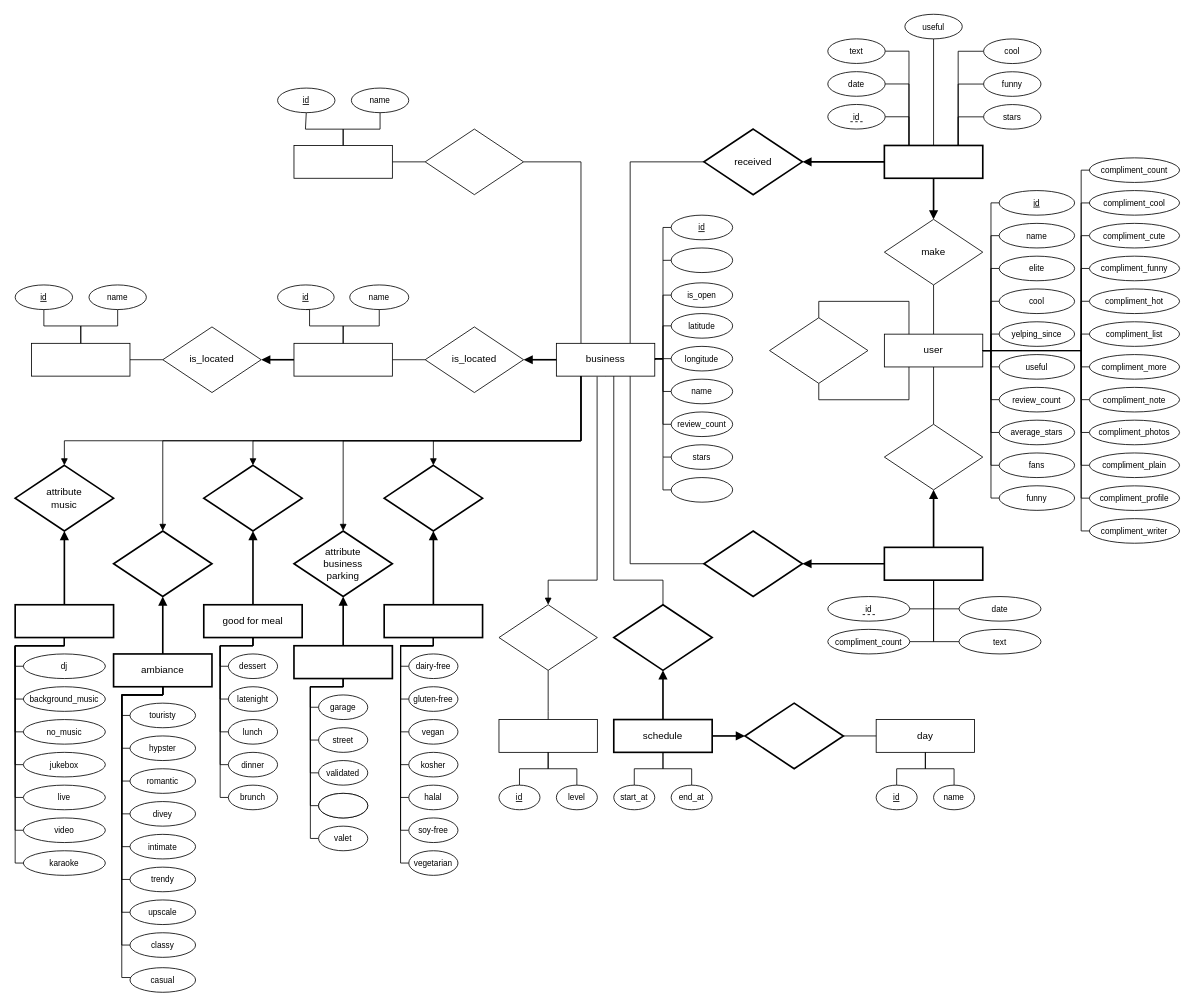
The diagram is 1194 pixels wide and 1007 high, and some of its shapes have lost their labels. The centre of each missing label's shape, as x and y in pixels:
"address" belongs at point (701, 260).
"are_friends" belongs at point (818, 350).
"attribute ambiance" belongs at point (162, 563).
"attribute dietary restrictions" belongs at point (433, 497).
"attribute good_for_meal" belongs at point (253, 497).
"business parking" belongs at point (343, 662).
"categorie" belongs at point (342, 161).
"city" belongs at point (342, 359).
"defined_by" belongs at point (474, 161).
"dietary restrictions" belongs at point (433, 621).
"give" belongs at point (933, 456).
"given_by" belongs at point (753, 563).
"has" belongs at point (547, 637).
"lot" belongs at point (343, 805).
"music" belongs at point (64, 621).
"noise_level" belongs at point (547, 735).
"NPA" belongs at point (701, 489).
"review" belongs at point (933, 161).
"schedule_of" belongs at point (663, 637).
"state" belongs at point (80, 359).
"take_place_at" belongs at point (794, 735).
"tip" belongs at point (933, 563).
